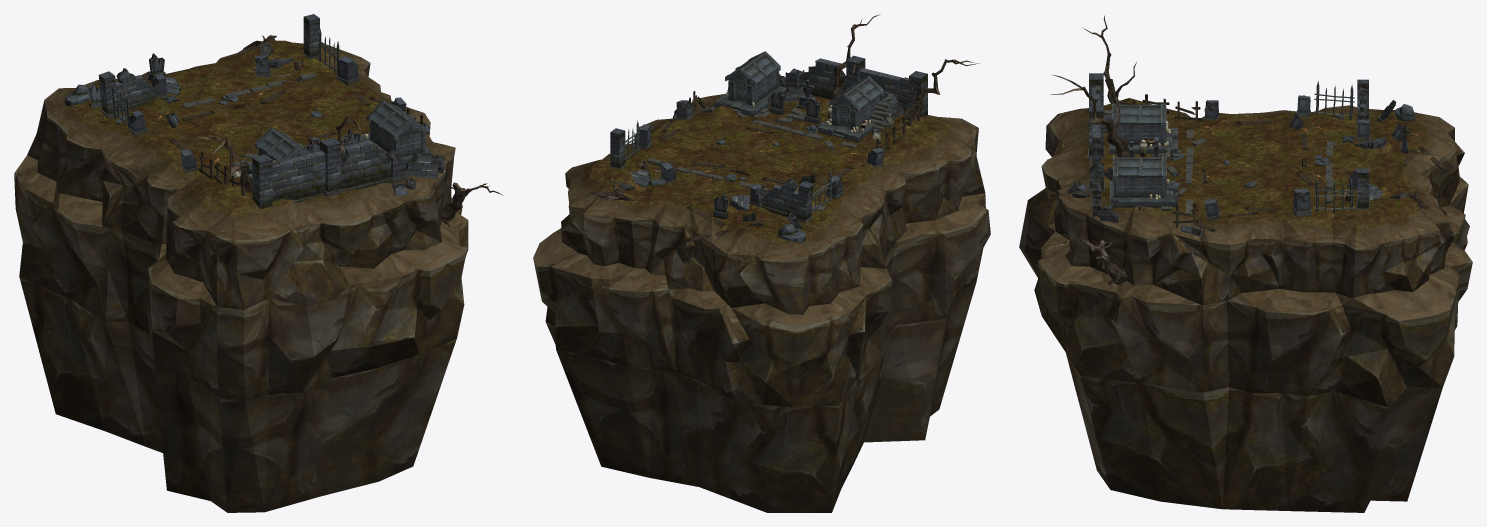
The model's file is cell3LR.fbx.
3 views of the same model, side by side, from view 1: azimuth 30°, elevation 25°; view 2: azimuth 150°, elevation 25°; view 3: azimuth 270°, elevation 25° (orthographic). The views are drawn at different scales.
Parts seen in each view (by area): view 1: cell3LR; view 2: cell3LR; view 3: cell3LR.
Boxes of the visible parts, x1,y1,x2,y2 form: cell3LR: (14, 14, 503, 512); cell3LR: (533, 14, 990, 512); cell3LR: (1019, 15, 1472, 512).
Size of the model in its own units: 21.81 by 23.58 by 26.13.
